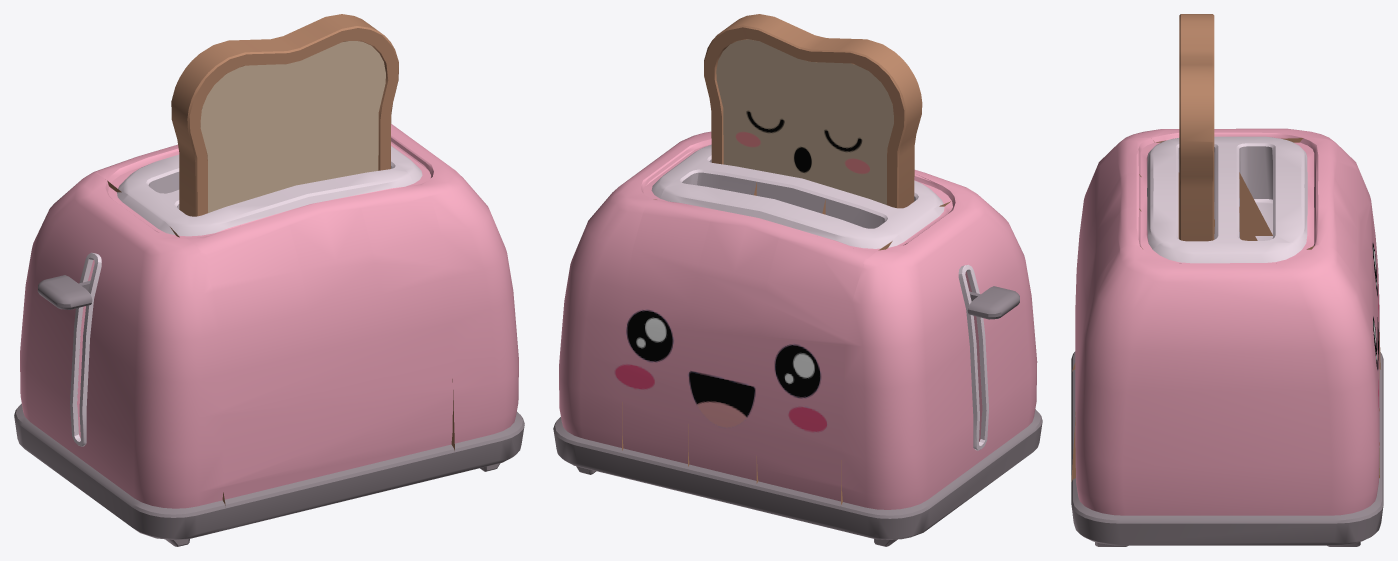
The model's file is ToasterFinal.fbx.
3 renders of one model, left to right at view 1: azimuth 30°, elevation 25°; view 2: azimuth 150°, elevation 25°; view 3: azimuth 270°, elevation 25°, orthographic. The views are drawn at different scales.
Visible parts, largest first — view 1: toast1, toast2, toast3, toast4, toast5; view 2: toast1, toast2, toast3, toast4, toast5; view 3: toast5, toast4, toast2, toast3, toast1.
Part boxes in pixels (left/top/right/bottom): toast1: left=14, top=172, right=225, bottom=546; toast2: left=93, top=40, right=314, bottom=530; toast3: left=242, top=22, right=386, bottom=509; toast4: left=314, top=14, right=454, bottom=491; toast5: left=391, top=124, right=524, bottom=474; toast1: left=839, top=188, right=1042, bottom=546; toast2: left=755, top=39, right=967, bottom=531; toast3: left=686, top=22, right=853, bottom=510; toast4: left=620, top=14, right=785, bottom=493; toast5: left=553, top=131, right=711, bottom=477; toast5: left=1071, top=242, right=1383, bottom=546; toast4: left=1071, top=64, right=1383, bottom=481; toast2: left=1071, top=14, right=1383, bottom=414; toast3: left=1071, top=31, right=1383, bottom=448; toast1: left=1071, top=128, right=1383, bottom=372.
Size of the model in its own units: 2.97 by 2.98 by 1.98.
1 material, 1 textured.
